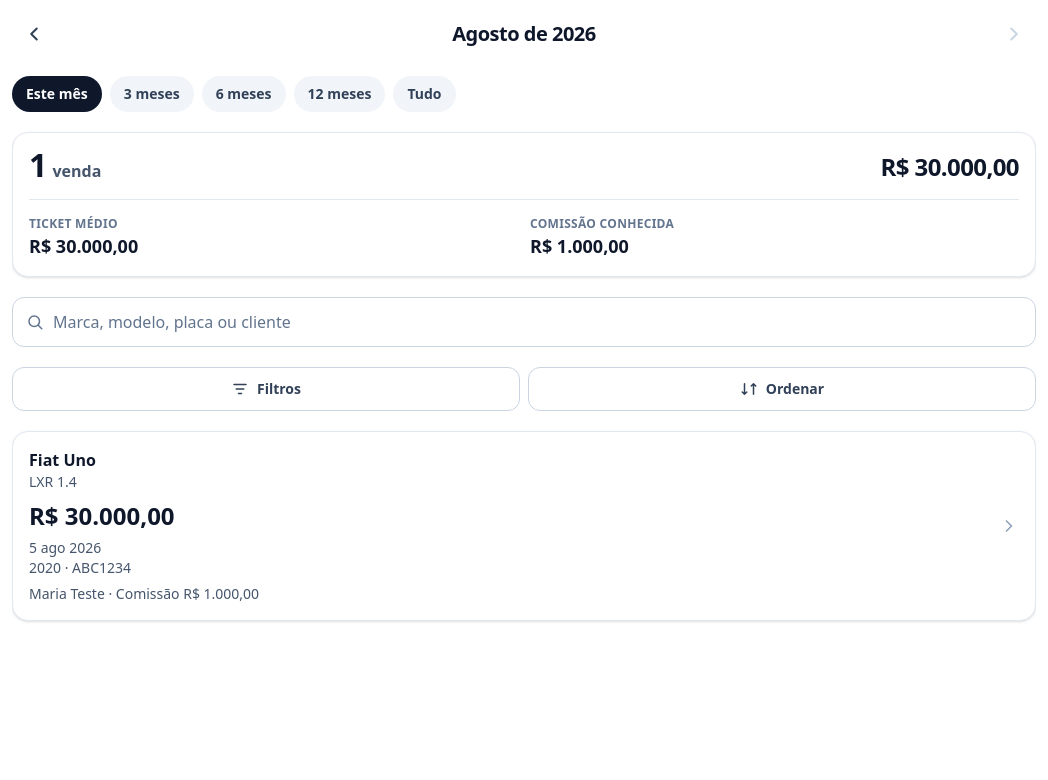
it: SoldVehiclesView › navegação de mês › shows an honest empty state for a real month with zero sales, without hiding or skipping it
Expected: the text "Fiat Uno" is shown, [29,448,96,472]
Click the button named "Mês anterior": (34, 34) [12,12,56,56]
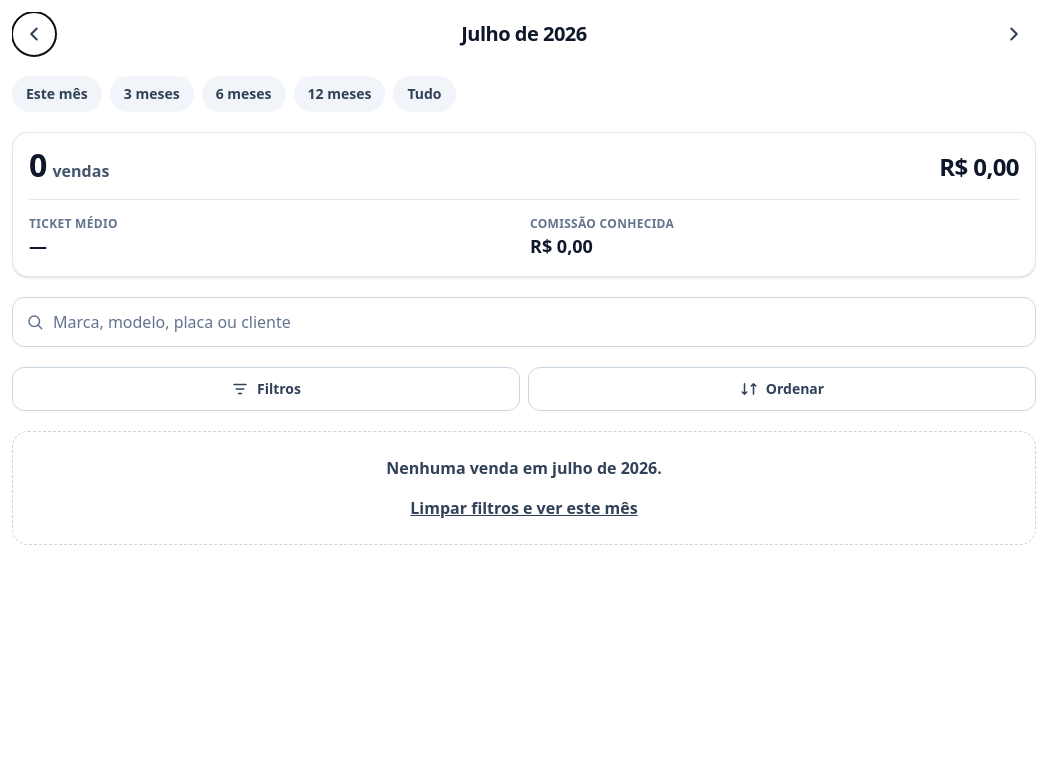
Expected: the text "Julho de 2026" is shown, [461,20,587,47]
Expected: the text "Nenhuma venda em julho de 2026." is shown, [386,457,662,479]
